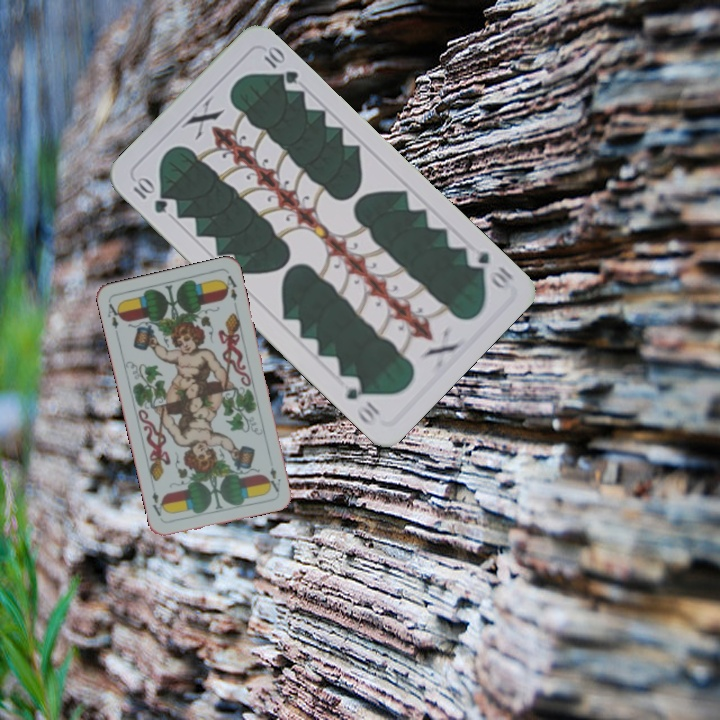EA: (103, 299, 124, 332), (265, 463, 283, 495)
G10: (461, 242, 516, 293), (129, 173, 170, 216)
